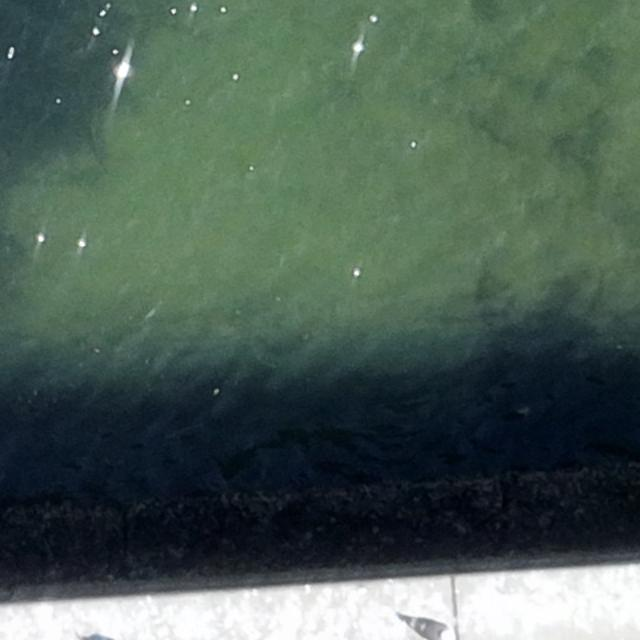umineko: (411, 620, 447, 639)
